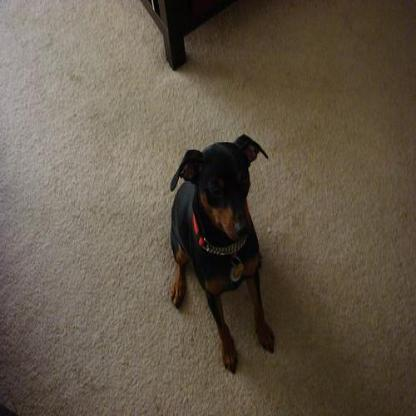miniature_pinscher: (169, 132, 275, 372)
